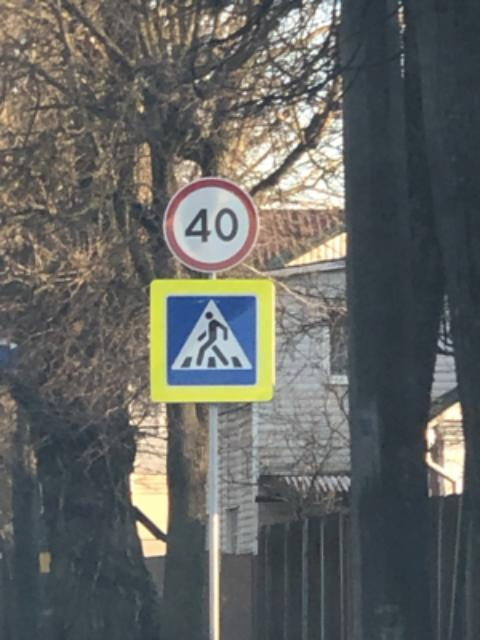crosswalk-sign: (149, 276, 278, 404)
